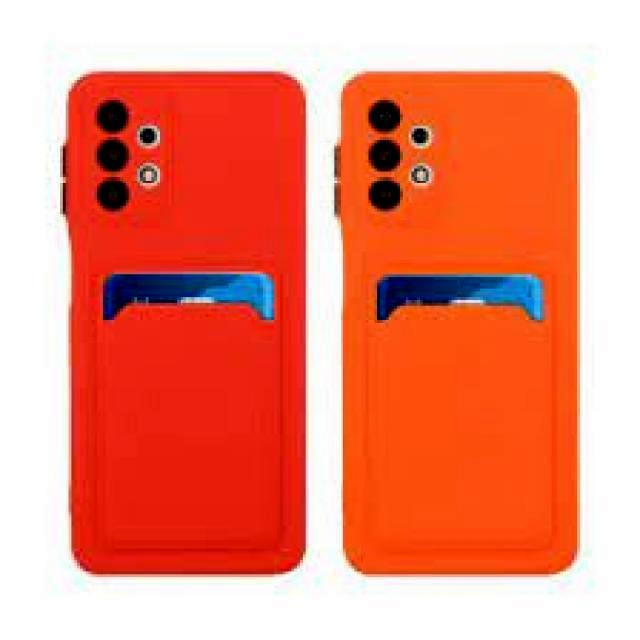lens_back: (360, 172, 406, 218), (90, 99, 137, 140), (367, 93, 408, 140), (363, 137, 408, 175), (93, 175, 134, 214), (91, 138, 134, 174), (136, 116, 161, 150), (407, 119, 431, 154)
phone: (62, 65, 314, 579), (337, 63, 584, 582)
